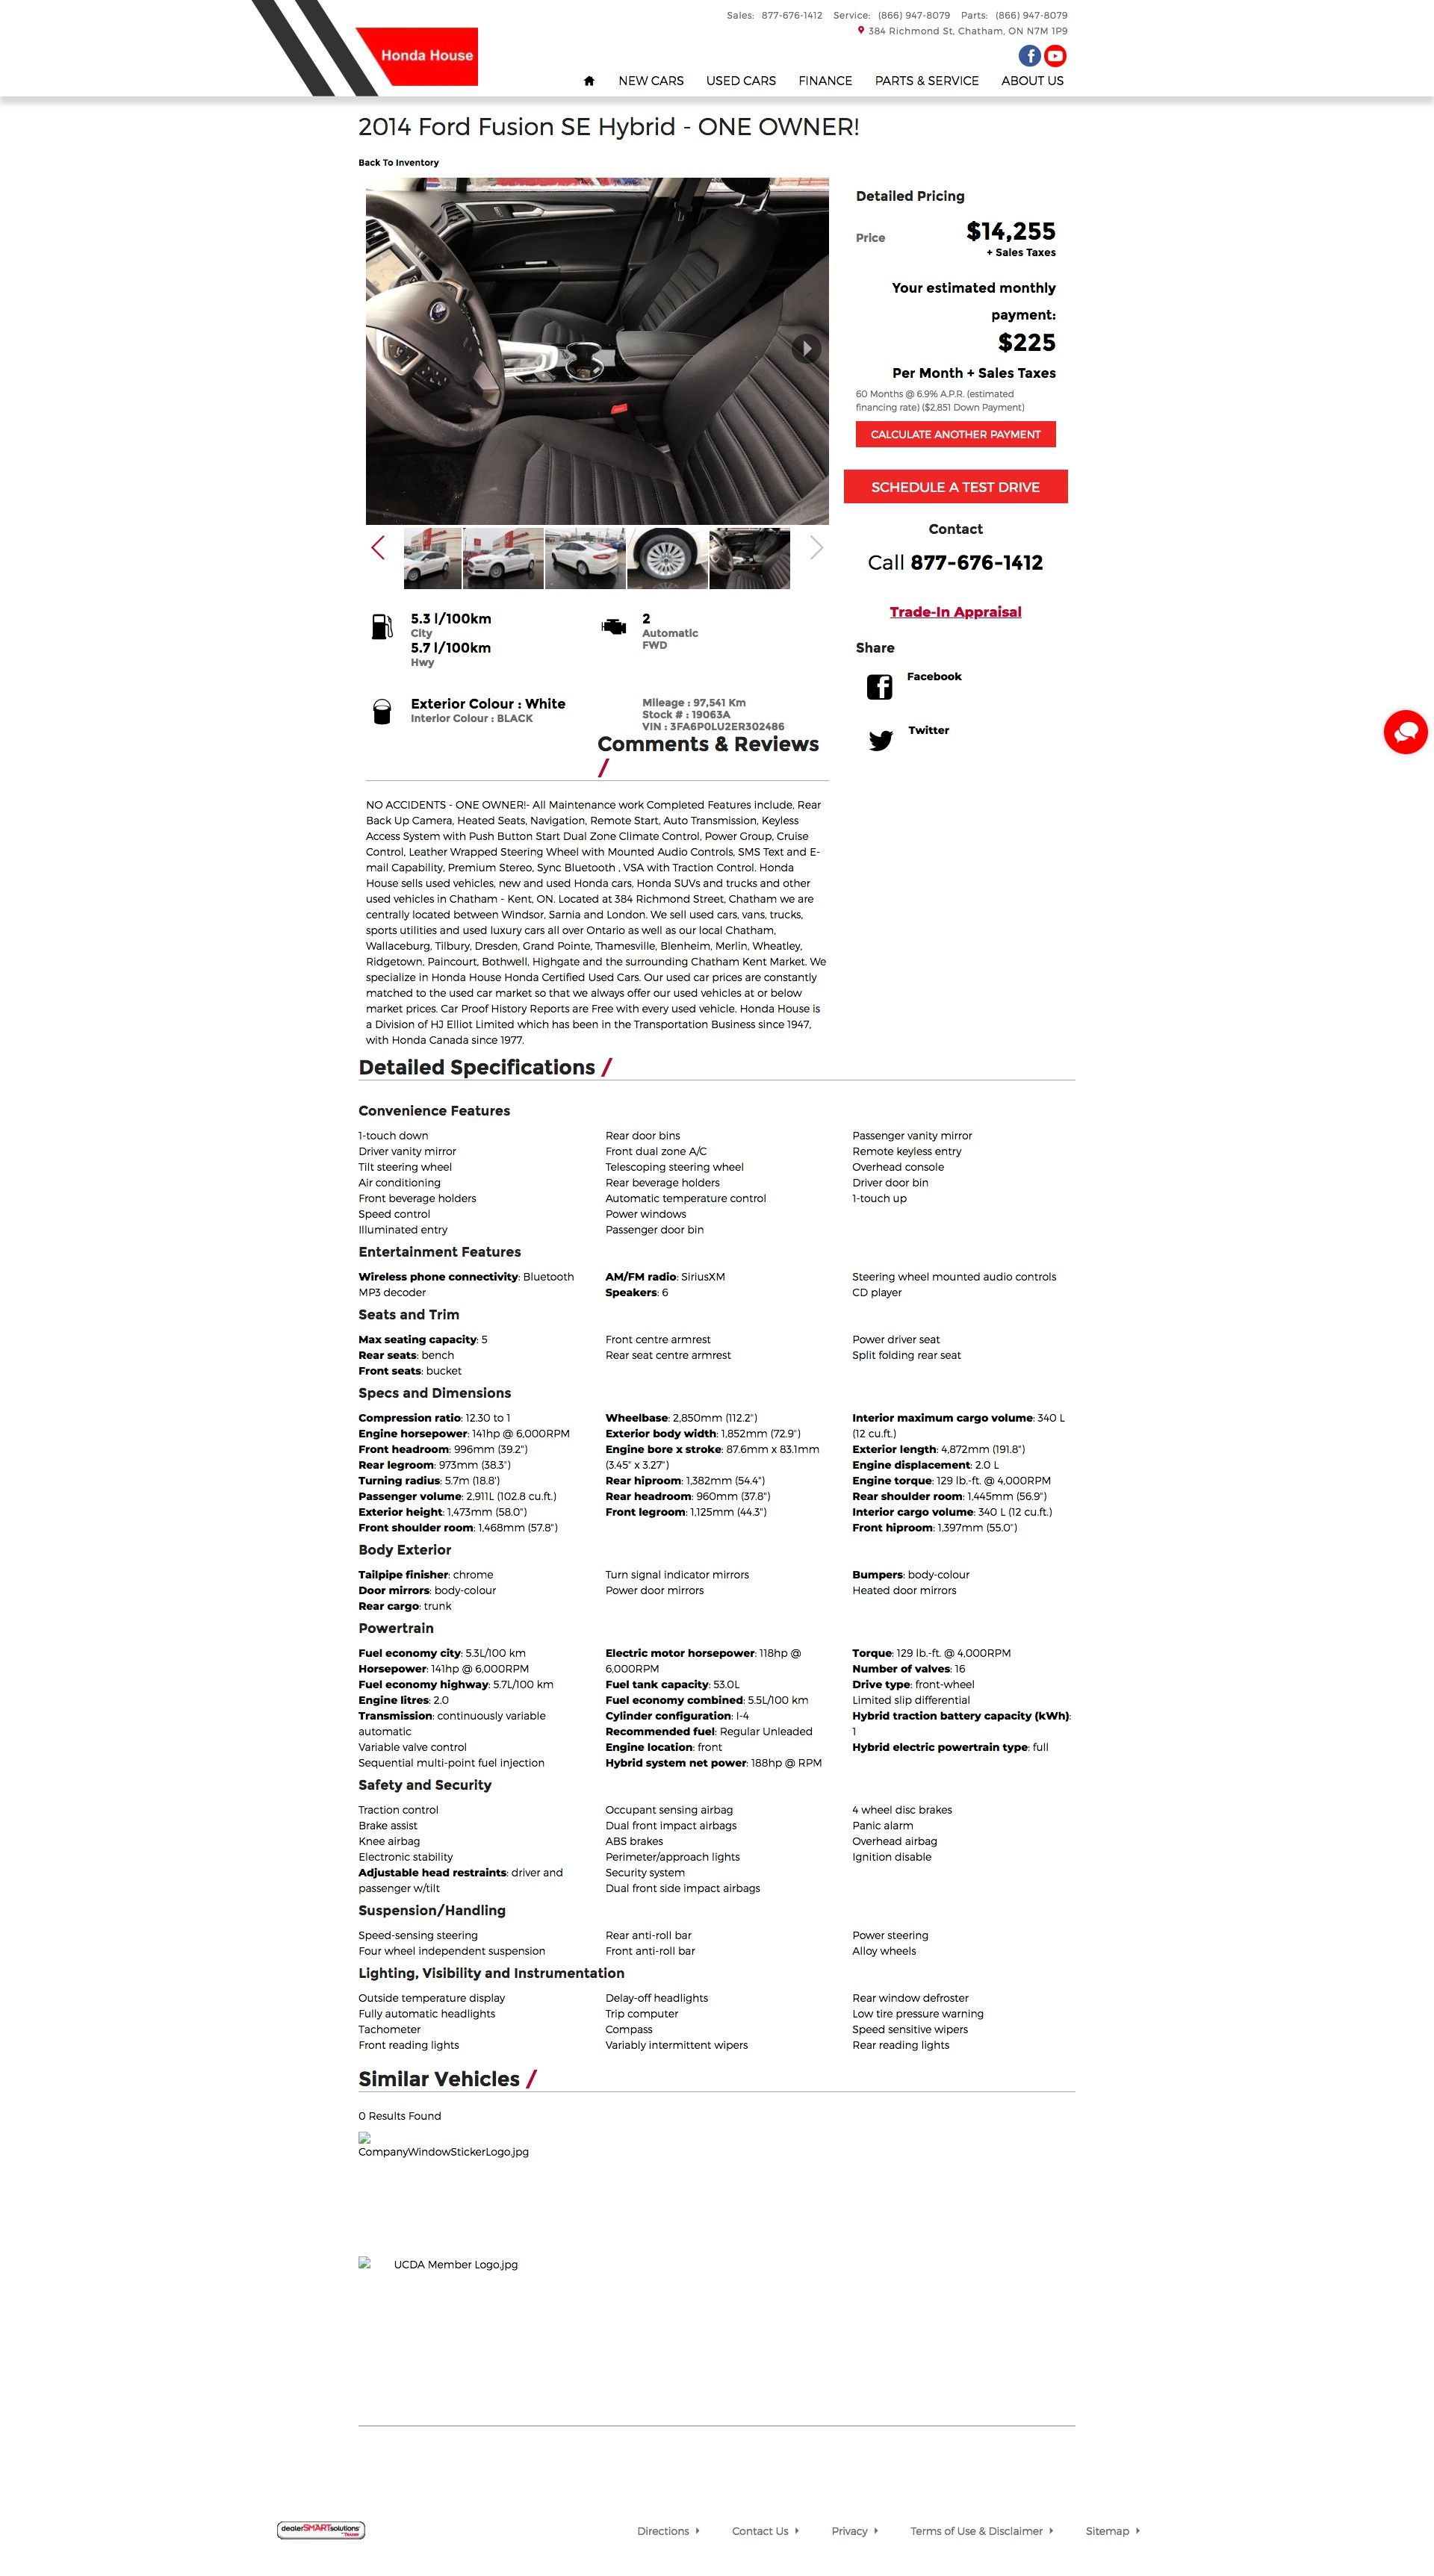car: (811, 535, 825, 561)
